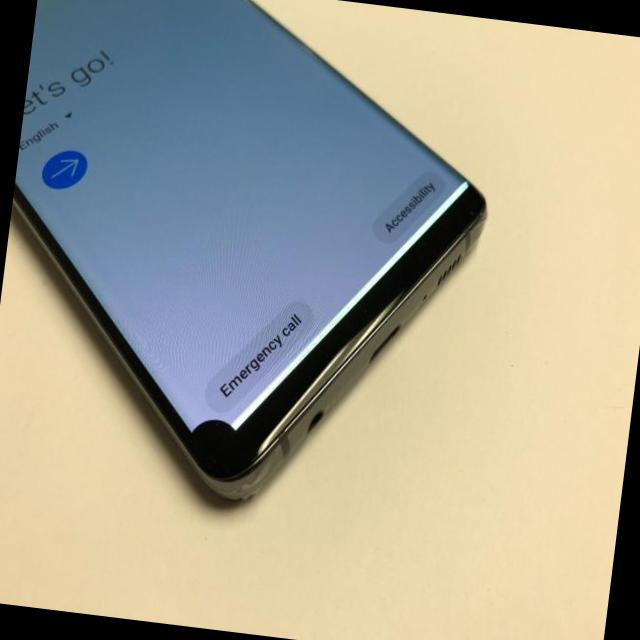dead pixel: (160, 384, 266, 491)
